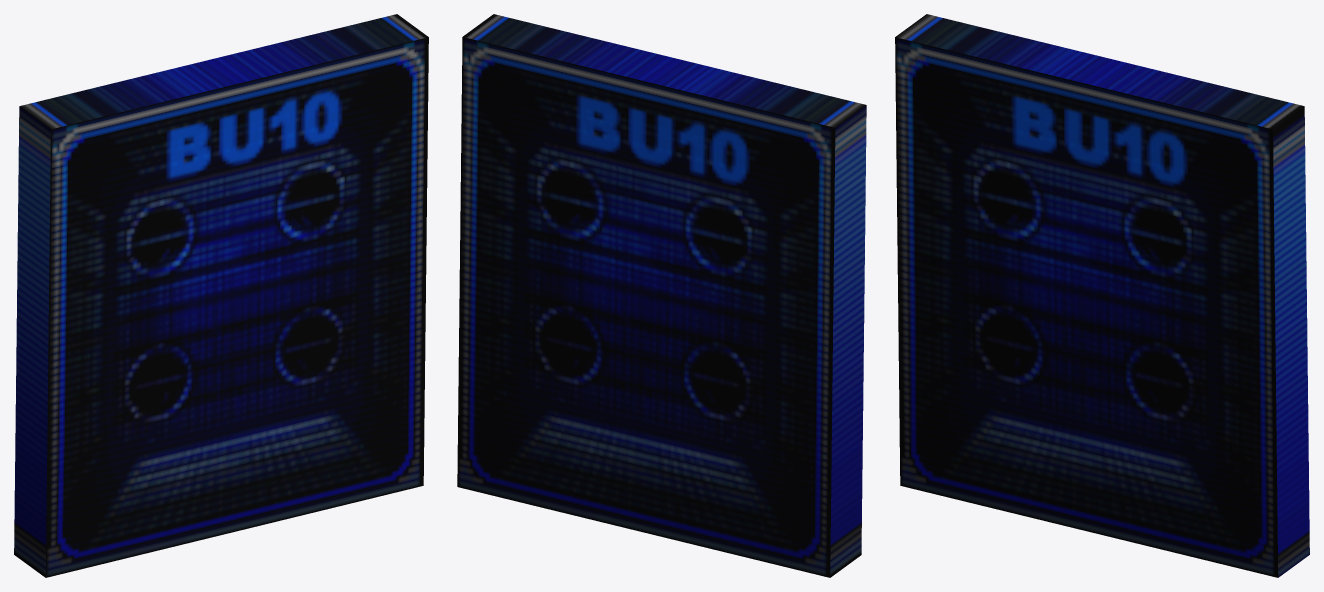
The model's file is datan_common_bu10_5c03d3a4.obj.
The picture shows the model from 3 angles, left to right: view 1: azimuth 30°, elevation 25°; view 2: azimuth 150°, elevation 25°; view 3: azimuth 330°, elevation 25°; orthographic projection.
Parts seen in each view (by area): view 1: datan_common_bu10_5c03d3a4; view 2: datan_common_bu10_5c03d3a4; view 3: datan_common_bu10_5c03d3a4.
Boxes of the visible parts, box(x1,y1,x2,y2) form: datan_common_bu10_5c03d3a4: box(14, 14, 428, 577); datan_common_bu10_5c03d3a4: box(457, 14, 866, 577); datan_common_bu10_5c03d3a4: box(895, 14, 1309, 577).
Bounding box in the file's own units: 1.18 × 1.36 × 0.2003.
Materials: 1 (1 with a texture image).
